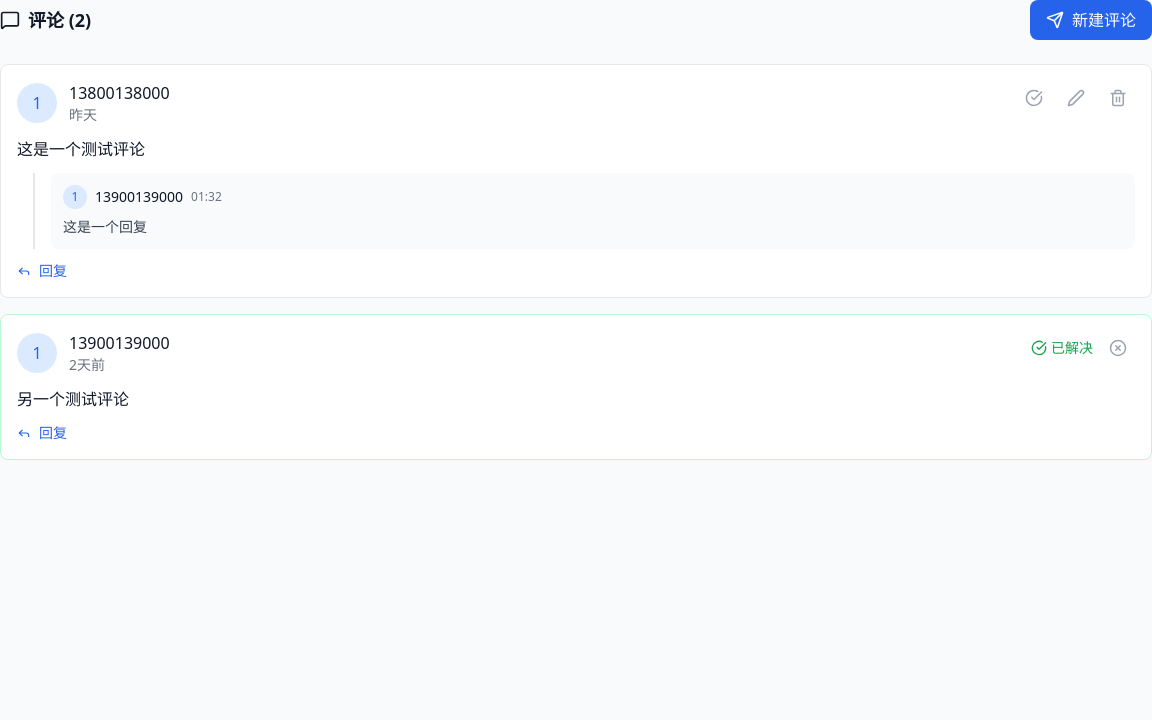
Test: CommentManagement组件测试 › 应该能够取消新建评论
Click the button "新建评论". click: (1091, 20)
box: [1030,0,1151,40]
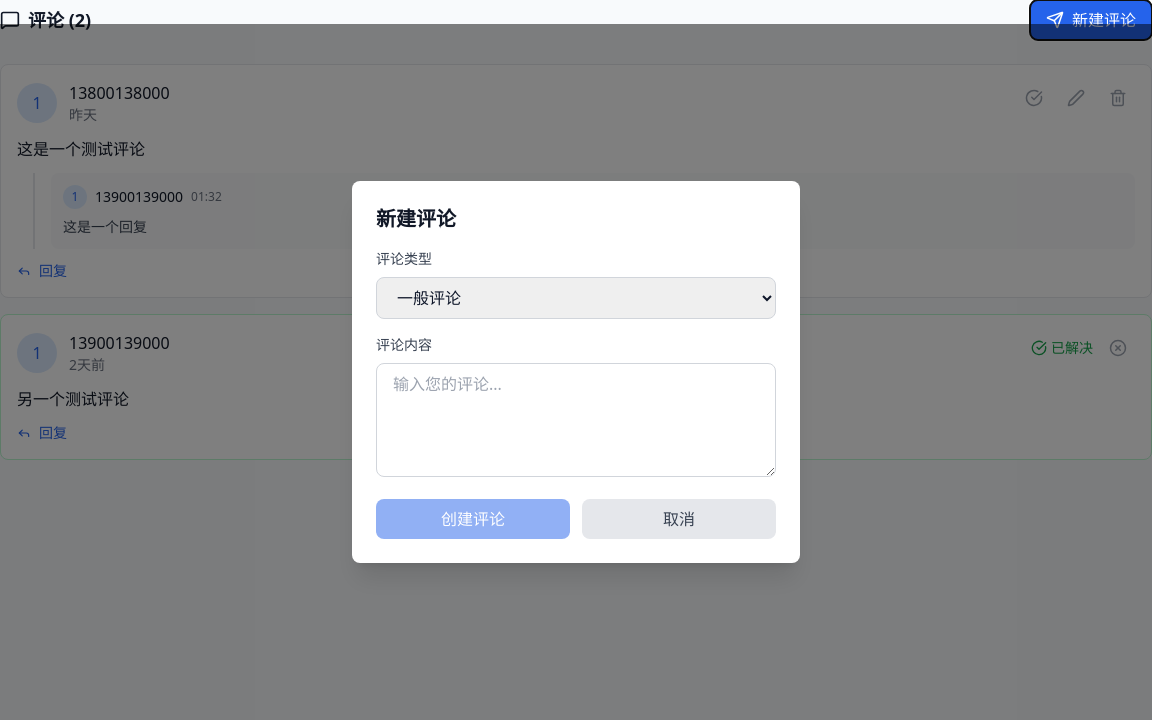
Click the button "取消". click: (679, 519)
box: [582,499,776,539]
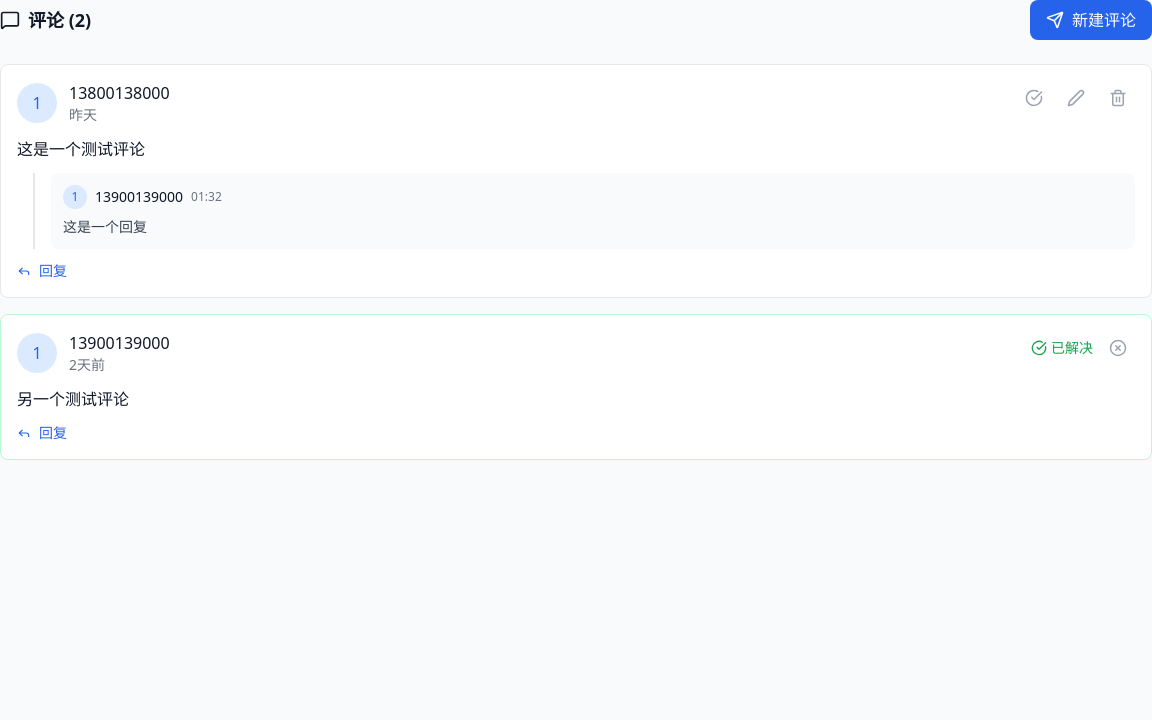
Expected: the text "评论类型" is gone
